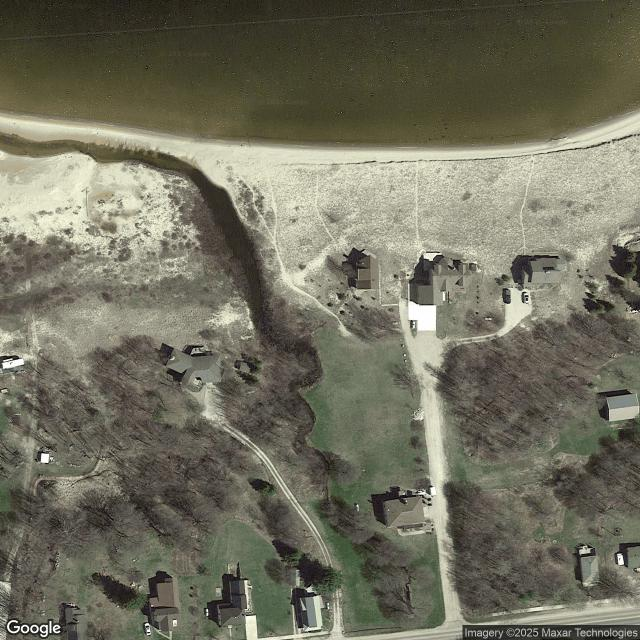Propane: (326, 601, 330, 610), (412, 321, 416, 329), (356, 504, 360, 512), (485, 317, 492, 321), (205, 609, 209, 616)
